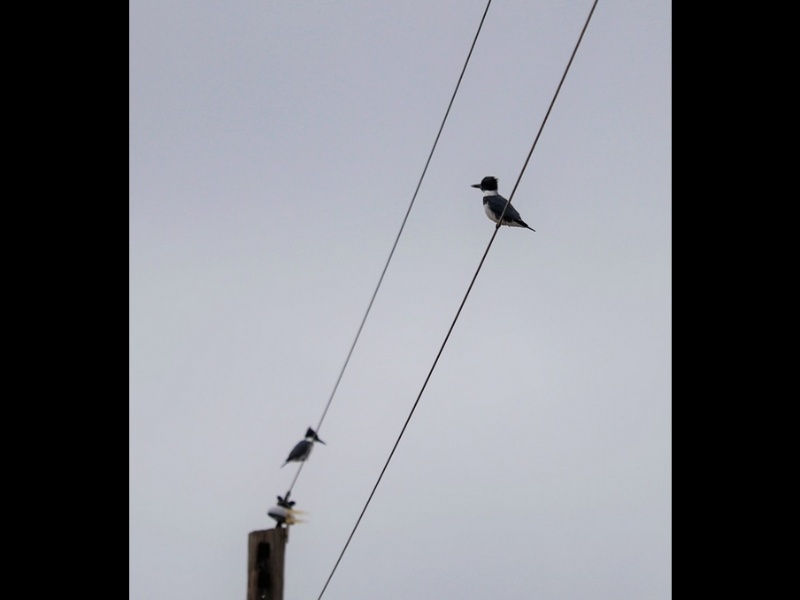kingfisher: (473, 175, 537, 234), (284, 426, 326, 467)
